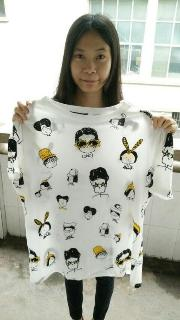short sleeve dress: (7, 96, 174, 288)
trousers: (60, 209, 118, 320)
